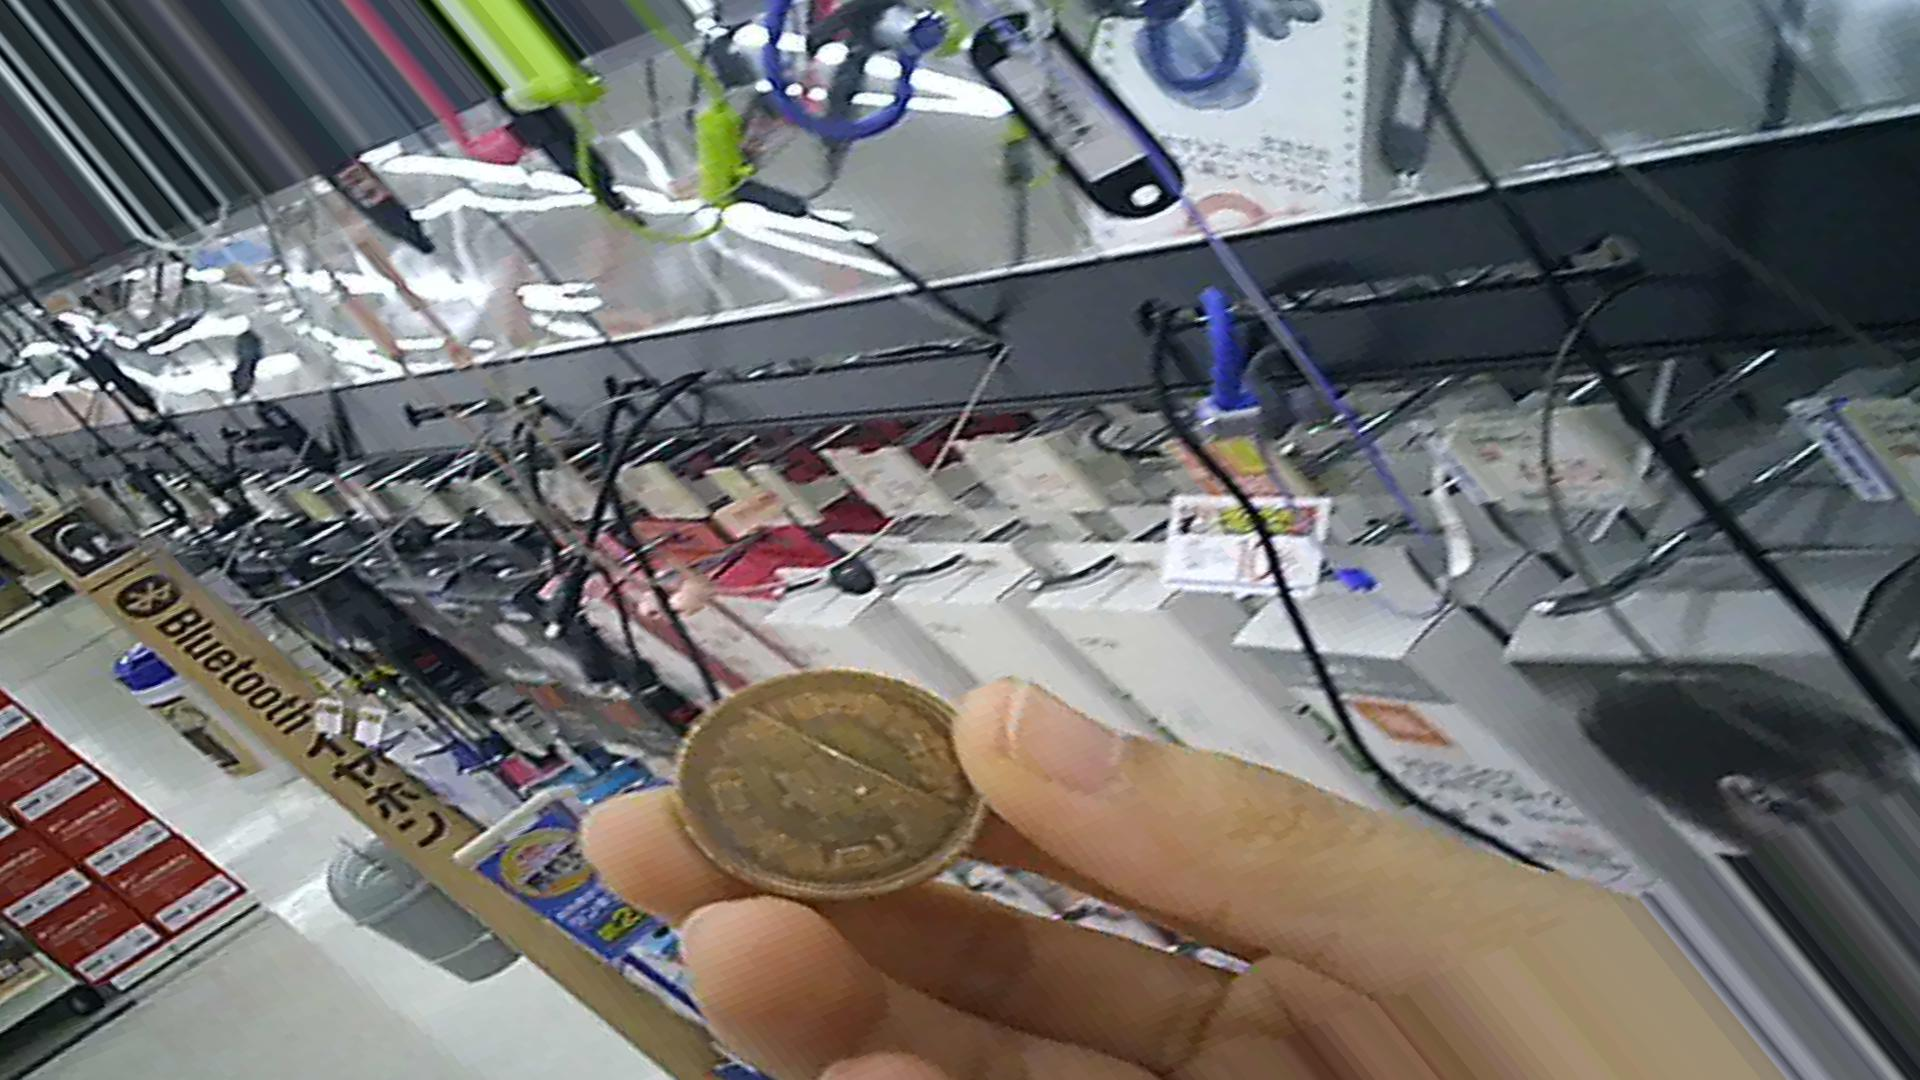10 Yen: (665, 662, 1009, 911)
